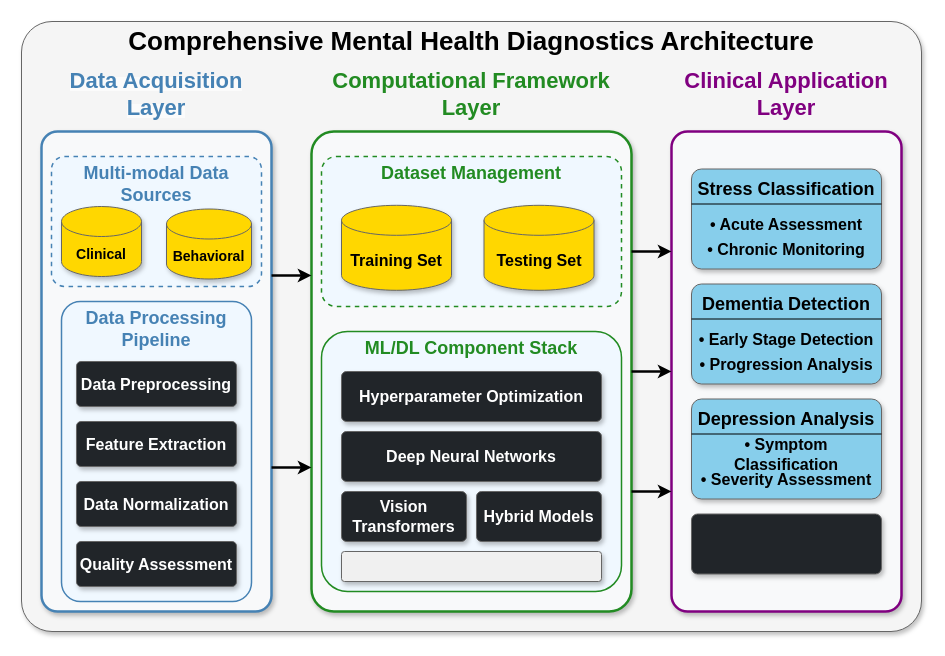
Some shapes in this 945 by 656 pixel diagram are drawn without their labels. Each missing label, with the centre of its shape:
Clinical Decision Support System: [787,545]
Cross-validation & Model Evaluation: [472,567]
